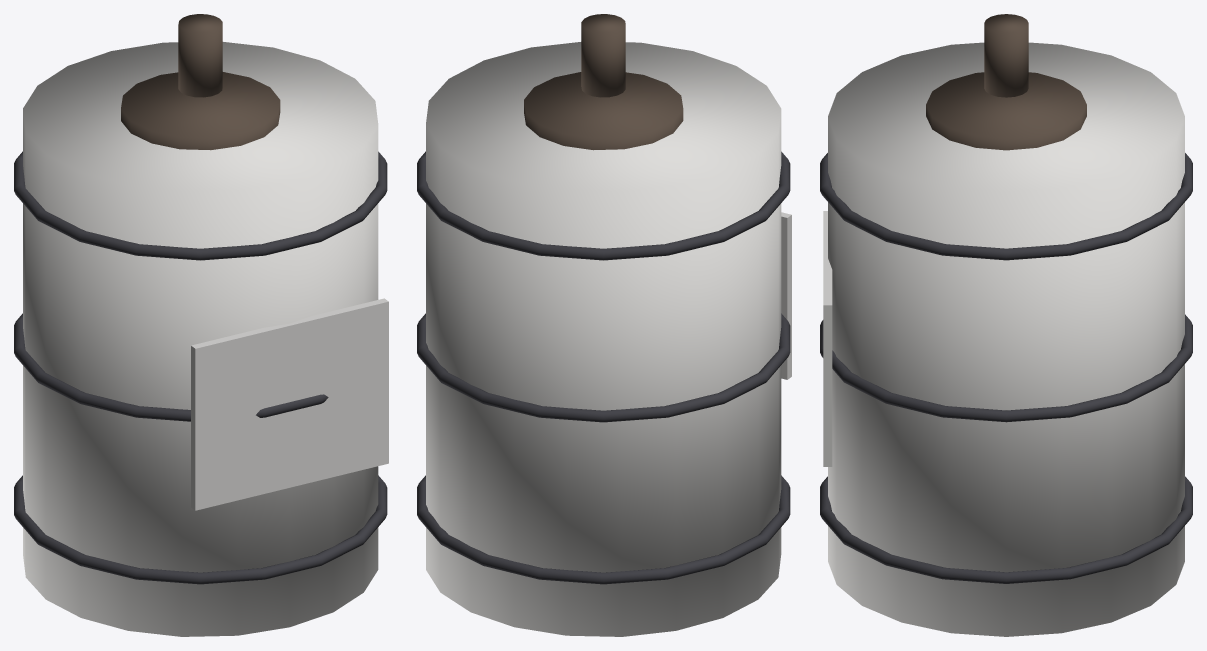
File: prop_chochin_kanban_shiro.glb
3 views of the same model, side by side, from view 1: azimuth 30°, elevation 25°; view 2: azimuth 150°, elevation 25°; view 3: azimuth 270°, elevation 25° (orthographic).
Parts seen in each view (by area): view 1: chochin_kanban_shiro; view 2: chochin_kanban_shiro; view 3: chochin_kanban_shiro.
Boxes of the visible parts, x1=… form: chochin_kanban_shiro: x1=14, y1=14, x2=388, y2=636; chochin_kanban_shiro: x1=417, y1=14, x2=791, y2=636; chochin_kanban_shiro: x1=820, y1=14, x2=1192, y2=636.
Bounding box in the file's own units: 0.848 × 1.36 × 0.8351.
